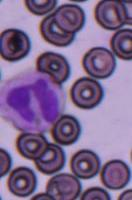N: (0, 69, 66, 134)
